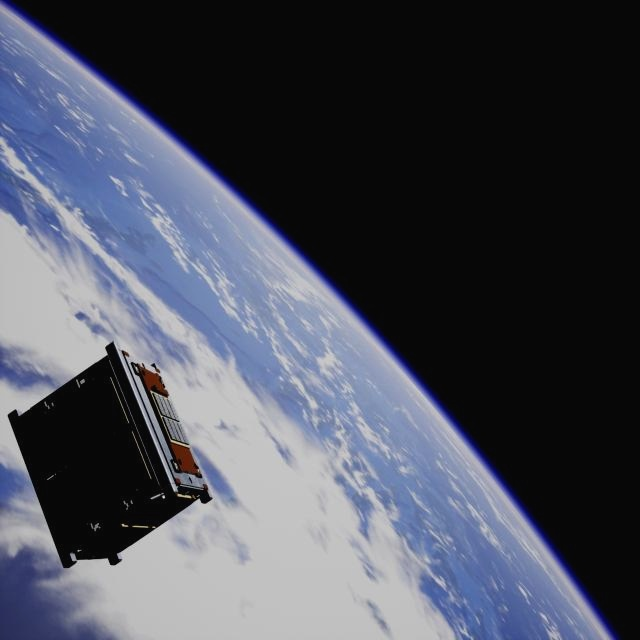satellite: (0, 344, 226, 588)
